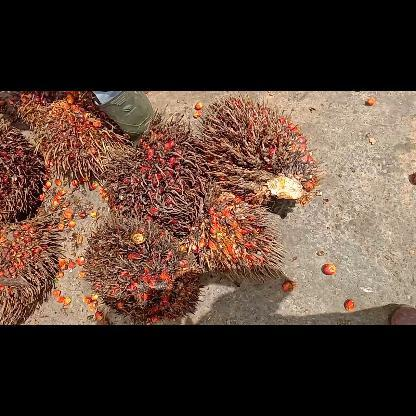Terlalu masak: (99, 103, 224, 238), (196, 91, 326, 219), (82, 207, 206, 323), (177, 180, 291, 286)
